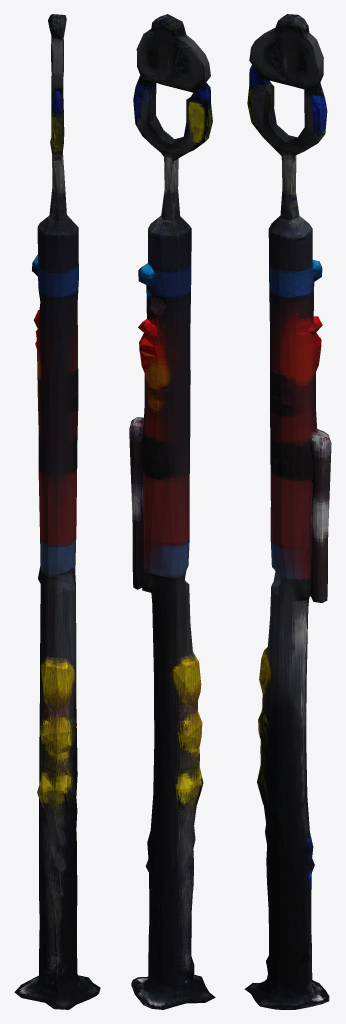
The model's file is danger_mark18.glb.
The picture shows the model from 3 angles, left to right: view 1: azimuth 90°, elevation 25°; view 2: azimuth 150°, elevation 25°; view 3: azimuth 330°, elevation 25°; orthographic projection.
Visible parts, largest first — view 1: world; view 2: world; view 3: world.
Boxes of the visible parts, <box> form: world: <box>14,14,100,1009</box>; world: <box>129,14,215,1009</box>; world: <box>244,14,331,1009</box>.
Size of the model in its own units: 0.0872 by 0.9995 by 0.0803.
Materials: 1 (1 with a texture image).
